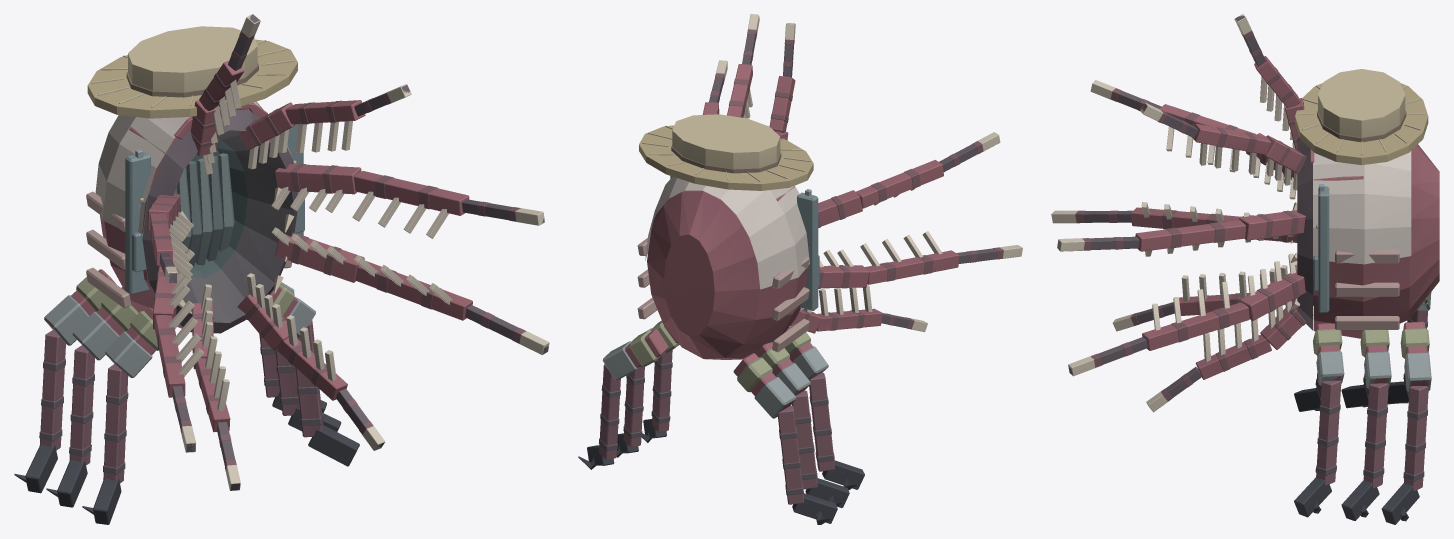
Rendered from AdaptedVisceraFarmer.glb.
The picture shows the model from 3 angles, left to right: view 1: azimuth 30°, elevation 25°; view 2: azimuth 150°, elevation 25°; view 3: azimuth 270°, elevation 25°; orthographic projection. The views are drawn at different scales.
Parts seen in each view (by area): view 1: Body, LegR, ArmR, ArmL, LegL; view 2: Body, LegR, LegL, ArmR, ArmL; view 3: Body, LegL, ArmL, LegR, ArmR.
Part boxes in pixels (box(x1,y1,x2,y2)): Body: box(46, 14, 549, 507); LegR: box(14, 269, 116, 493); ArmR: box(82, 307, 158, 524); ArmL: box(269, 284, 359, 466); LegL: box(259, 335, 326, 412); Body: box(616, 14, 1022, 507); LegR: box(733, 353, 837, 524); LegL: box(578, 329, 668, 469); ArmR: box(785, 324, 864, 490); ArmL: box(641, 344, 679, 442); Body: box(1051, 14, 1439, 520); LegL: box(1381, 321, 1431, 524); ArmL: box(1294, 323, 1344, 517); LegR: box(1387, 292, 1431, 404); ArmR: box(1294, 373, 1321, 411).
Size of the model in its own units: 8.02 by 10.39 by 8.25.
